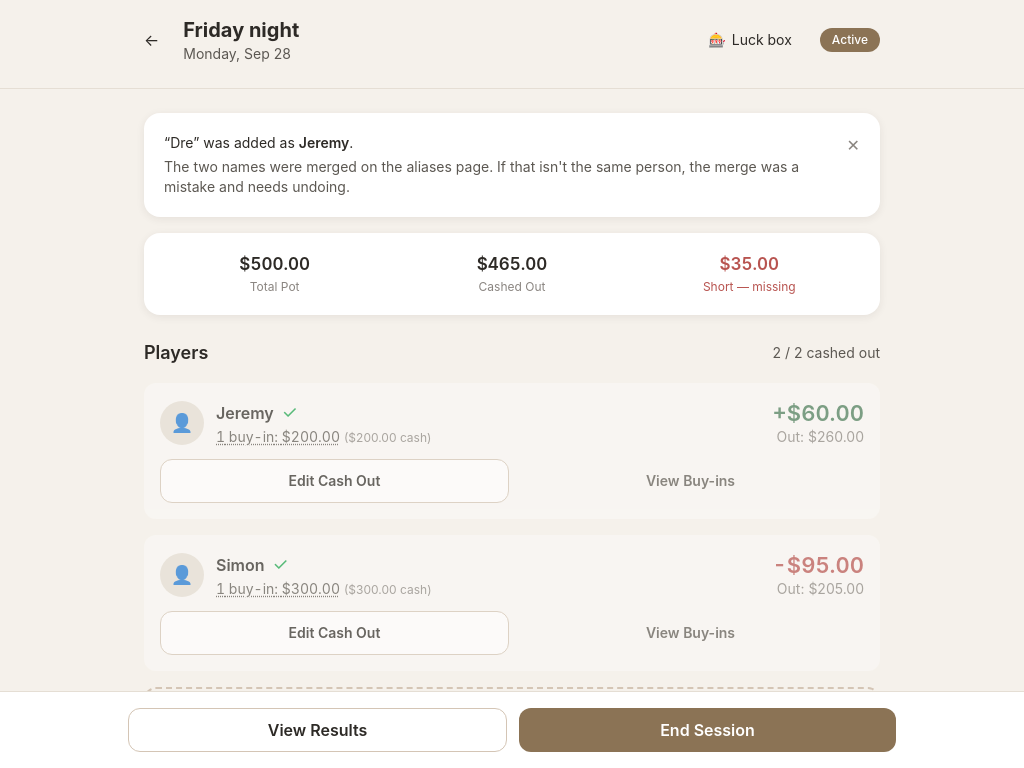
Test: SessionDetail: saying when a typed name was redirected › the notice can be dismissed
Click the button named "Dismiss" at (853, 145), box x1=843 y1=129 x2=864 y2=161
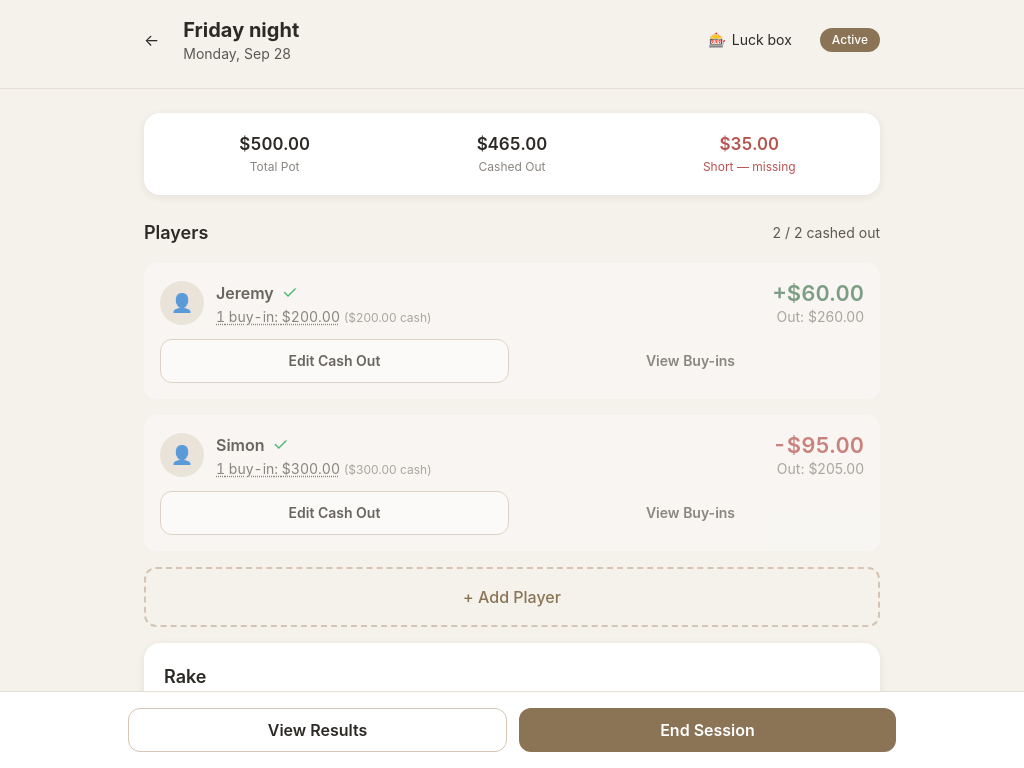
Check: the message is gone
